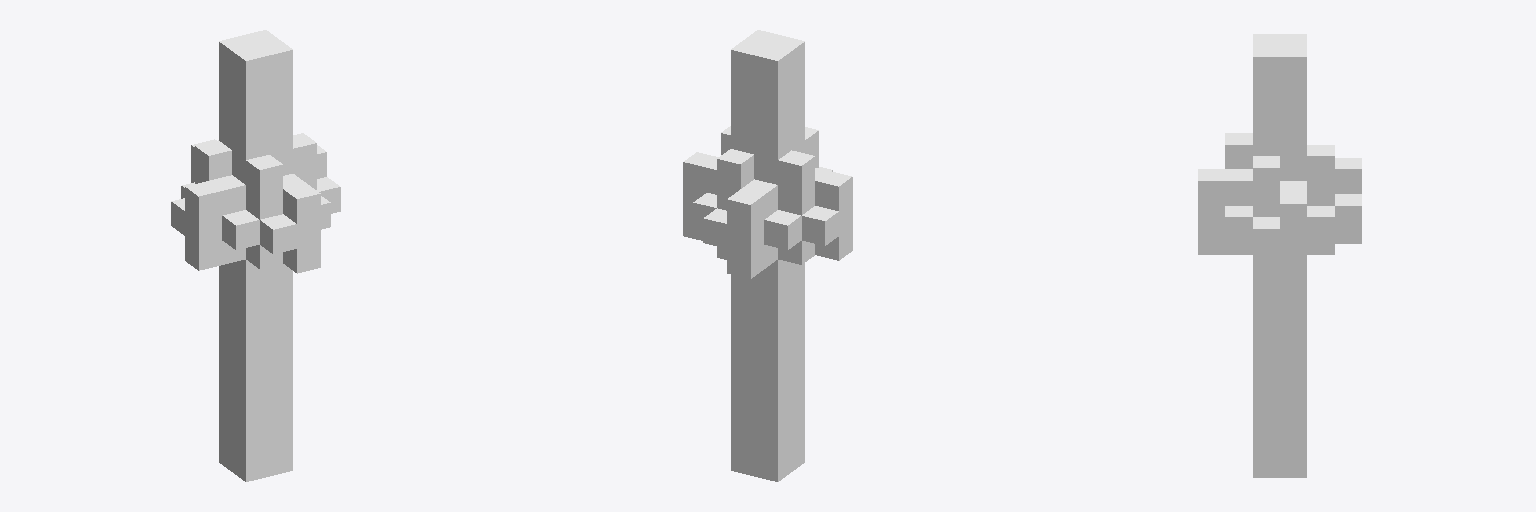
Rendered from Ilumination-6.obj.
The picture shows the model from 3 angles: view 1: azimuth 30°, elevation 25°; view 2: azimuth 150°, elevation 25°; view 3: azimuth 270°, elevation 25°; orthographic projection.
Parts seen in each view (by area): view 1: object 1; view 2: object 1; view 3: object 1.
Boxes of the visible parts, <box> form: object 1: <box>171,30,340,481</box>; object 1: <box>683,30,852,481</box>; object 1: <box>1198,34,1361,477</box>.
Size of the model in its own units: 0.6 by 1.7 by 0.6.